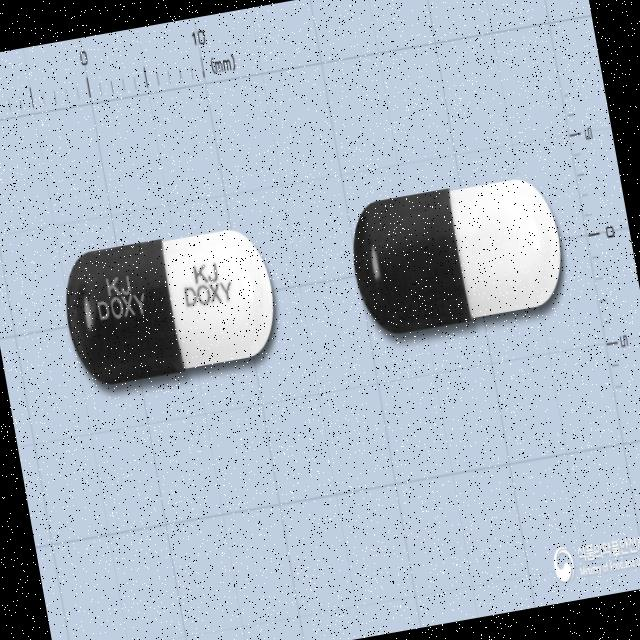Doxycycline Hyclate Cap: (342, 169, 572, 340), (56, 221, 285, 392)
